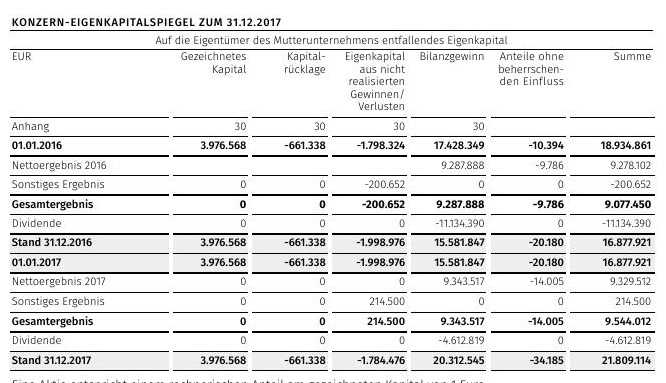table: (0, 0, 666, 383)
